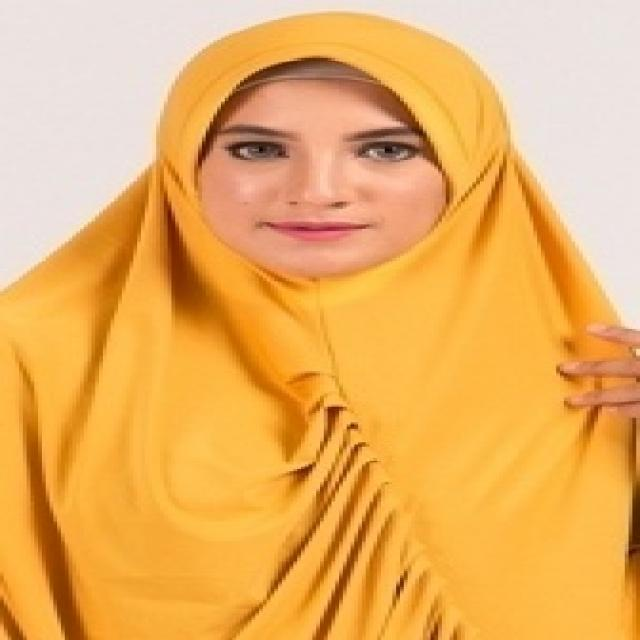head: (168, 14, 503, 287)
